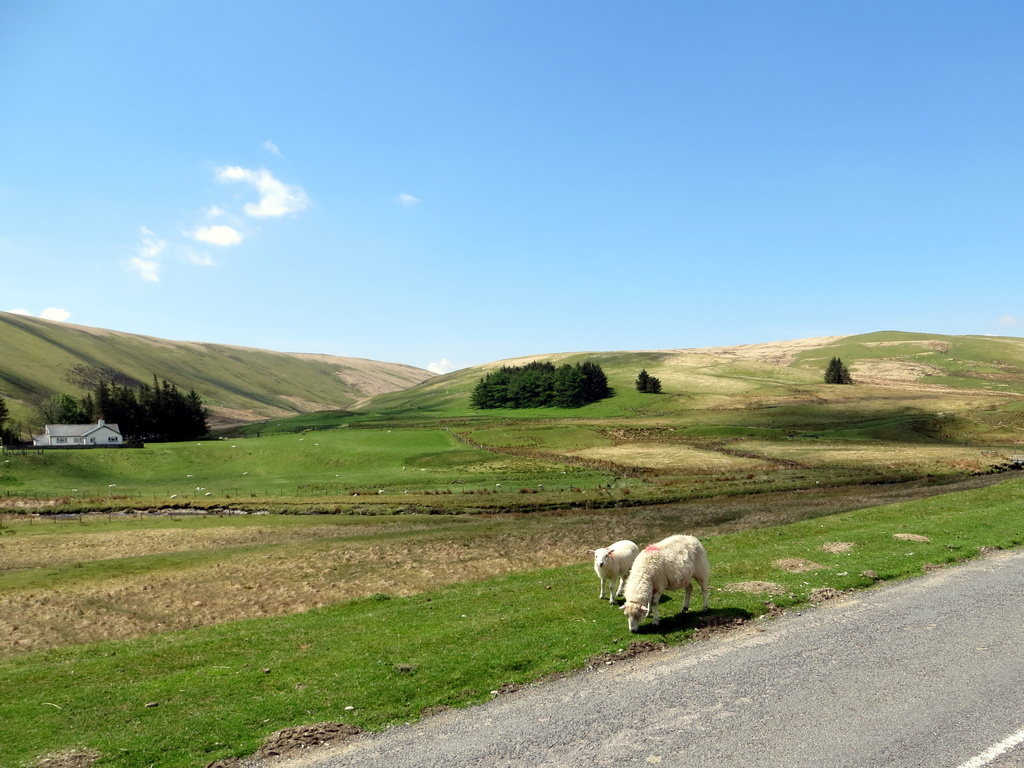sheep: (619, 531, 713, 632)
